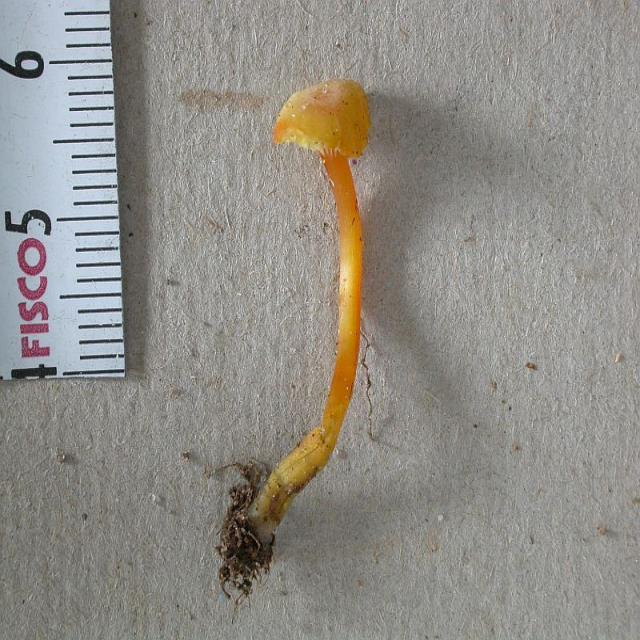Cantharellus cibarius: (203, 84, 369, 587)
